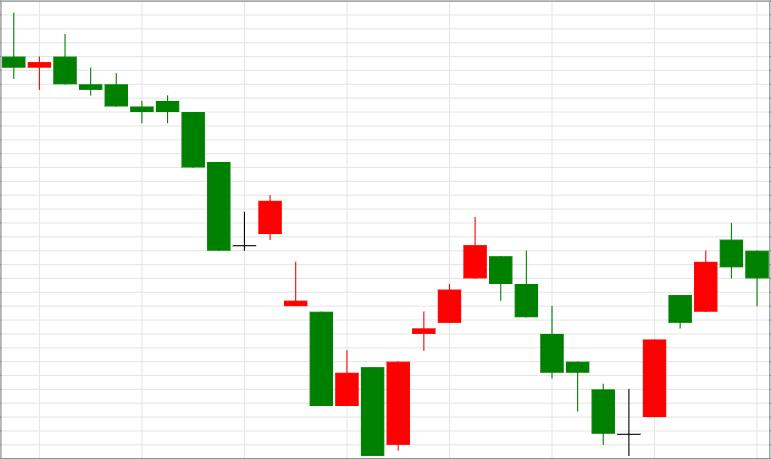morning_star_rise: (489, 250, 666, 457)
